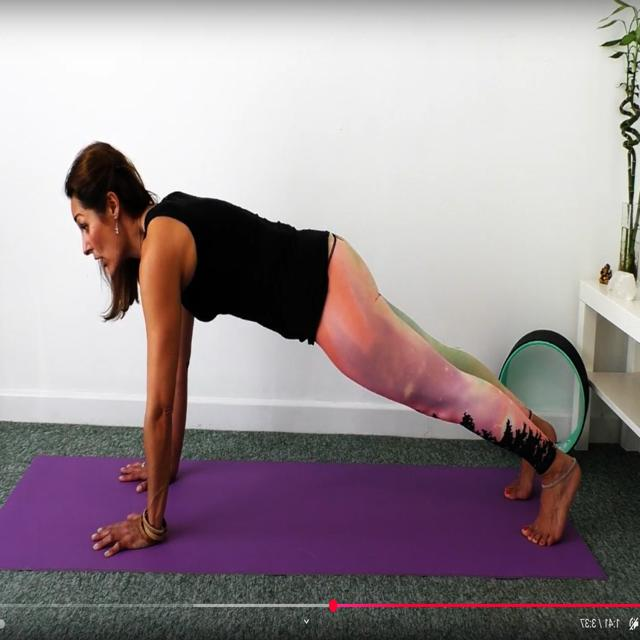Plank_Pose: (58, 136, 596, 555)
